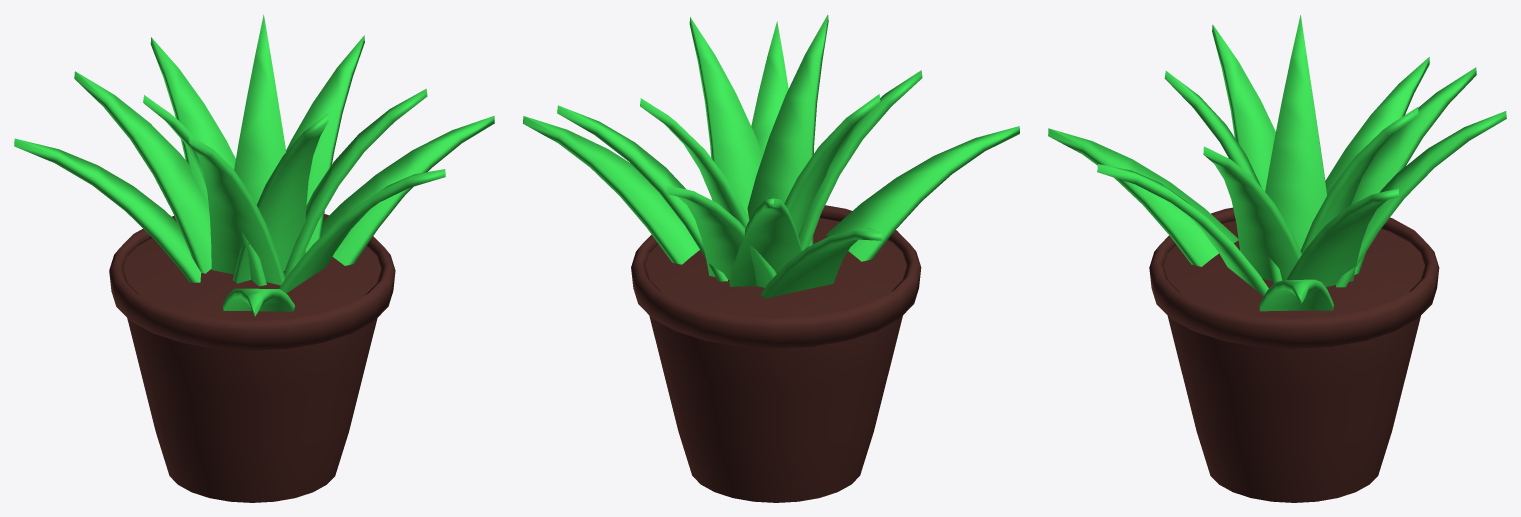
File: Plante09_low.fbx
3 renders of one model, left to right at view 1: azimuth 30°, elevation 25°; view 2: azimuth 150°, elevation 25°; view 3: azimuth 270°, elevation 25°, orthographic.
Visible parts, largest first — view 1: 09_Plante, 09_Pot, 09_Terre; view 2: 09_Plante, 09_Pot, 09_Terre; view 3: 09_Plante, 09_Pot, 09_Terre.
Boxes of the visible parts, x1,y1,x2,y2 form: 09_Plante: (14, 14, 494, 316); 09_Pot: (109, 214, 395, 502); 09_Terre: (123, 238, 381, 320); 09_Plante: (523, 14, 1019, 298); 09_Pot: (631, 205, 921, 502); 09_Terre: (645, 218, 906, 318); 09_Plante: (1048, 15, 1506, 311); 09_Pot: (1149, 207, 1439, 502); 09_Terre: (1163, 220, 1424, 318).
Size of the model in its own units: 54.99 by 49.95 by 51.68.
